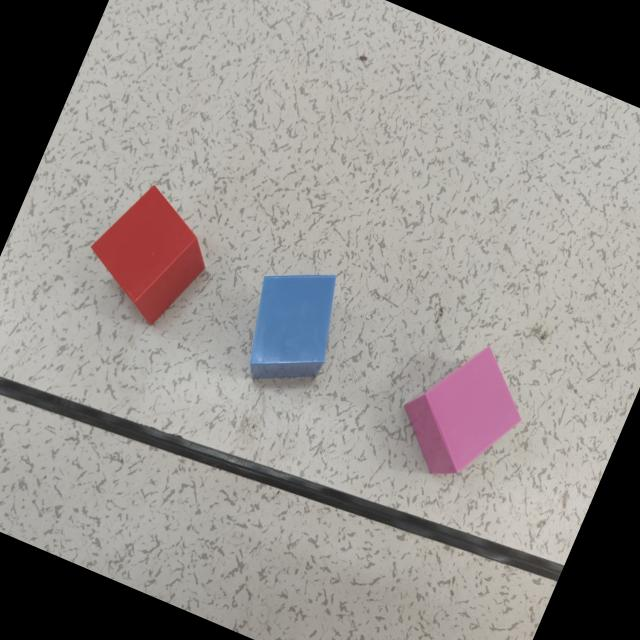blue: (248, 275, 335, 384)
pink: (402, 347, 521, 476)
red: (89, 186, 204, 325)
